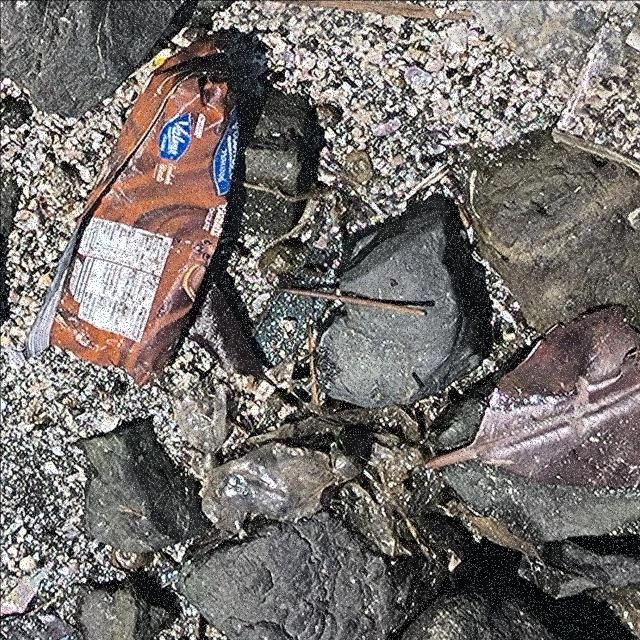plastic_waste: (23, 31, 242, 393)
